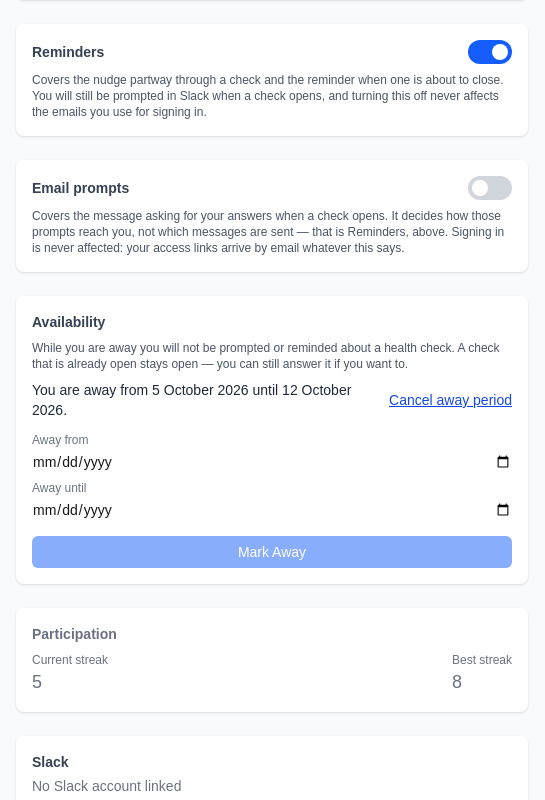
cancelling an away period › says what went wrong rather than appearing to have worked
The image size is (545, 800).
(page scrolled)
Click the button "Cancel away period": (450, 400) [389,390,512,410]
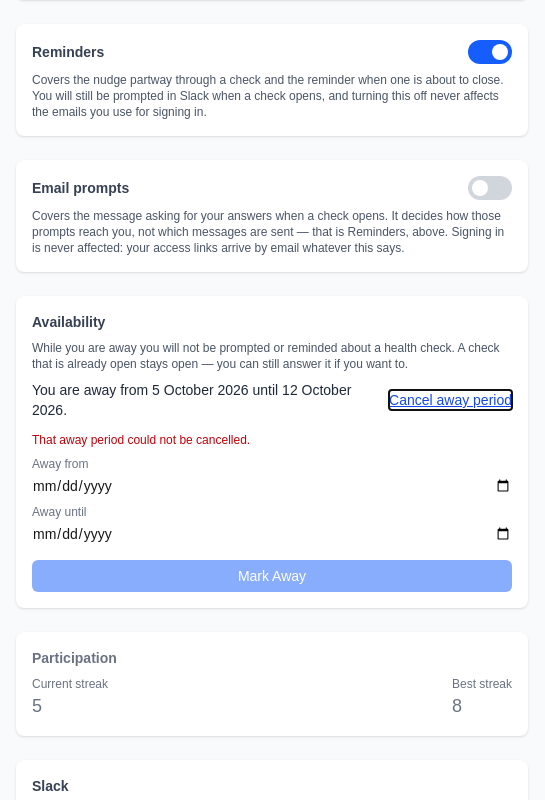
Expected: the message shows "could not be cancelled", [32,433,250,447]
